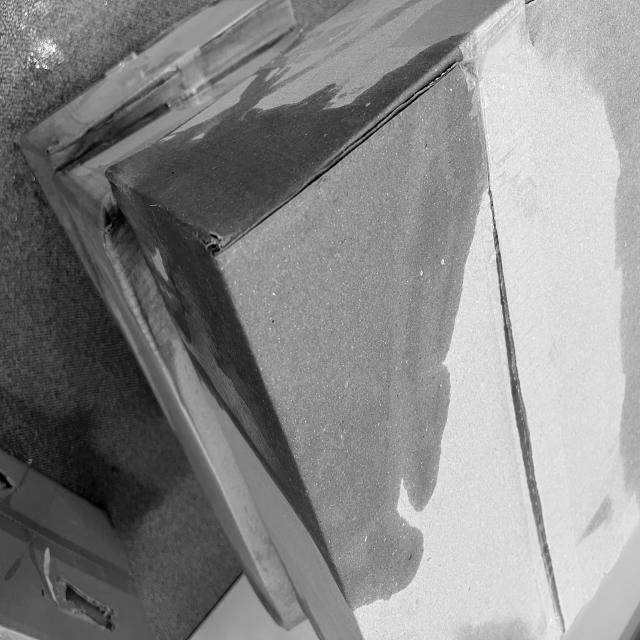wet: (113, 70, 496, 607)
